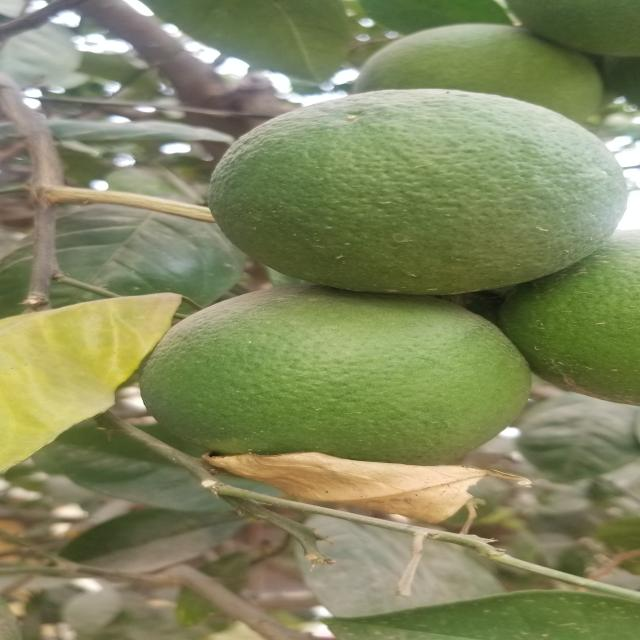Unripe: (216, 88, 630, 306), (137, 292, 523, 487)
